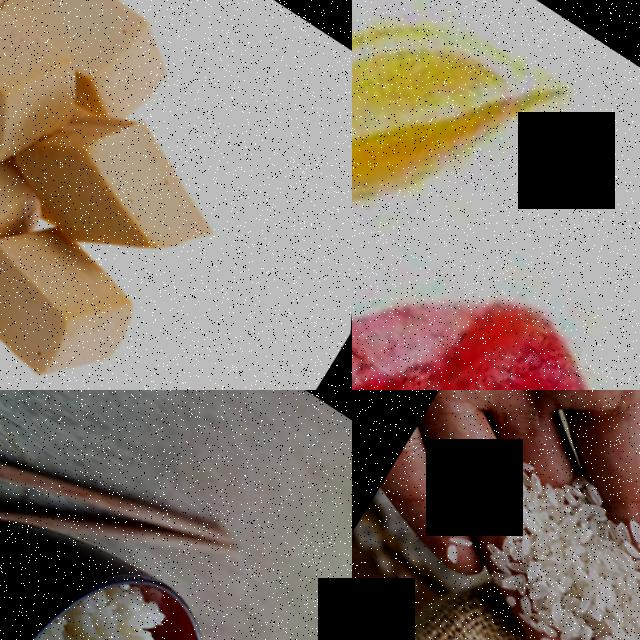lemon: (352, 0, 581, 317)
tofu: (9, 64, 253, 290), (0, 187, 165, 390), (0, 0, 107, 191), (0, 0, 198, 99)
tuna: (352, 257, 640, 390)
white rice: (472, 461, 640, 640), (0, 572, 273, 640)
